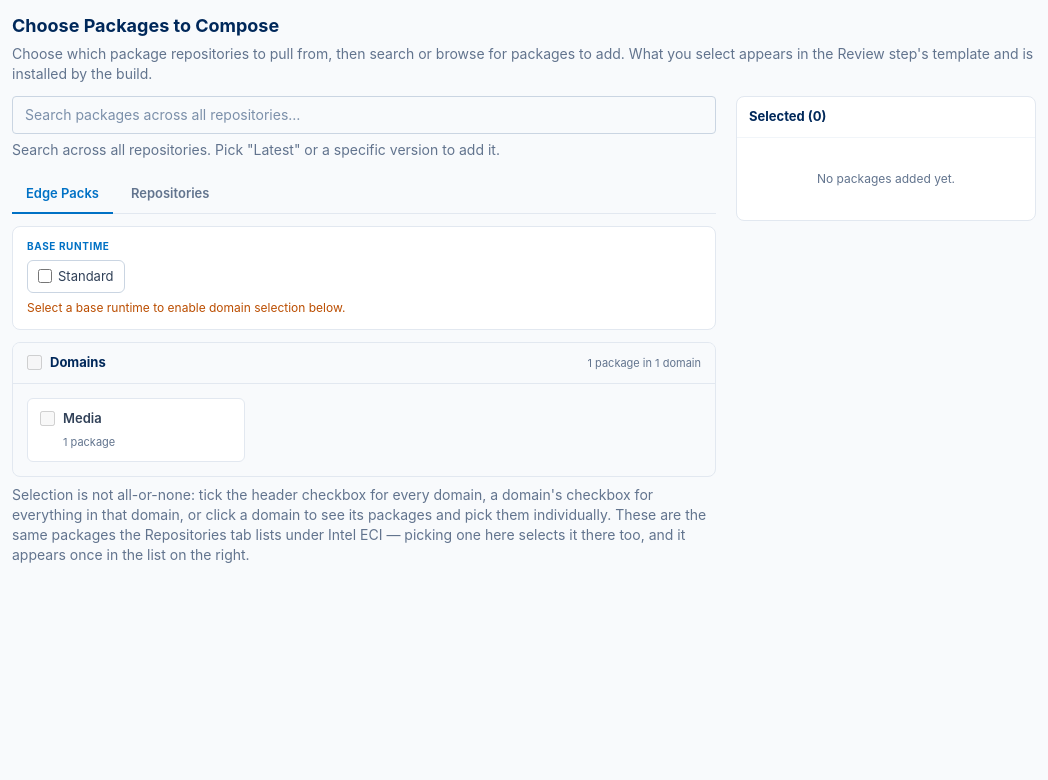
it: PackagesStep Edge Pack › asks again while versions are pending, keeping the pack on screen
Click the button "Media 1 package": (136, 430) x1=27 y1=398 x2=245 y2=462
Wait 30000 ms
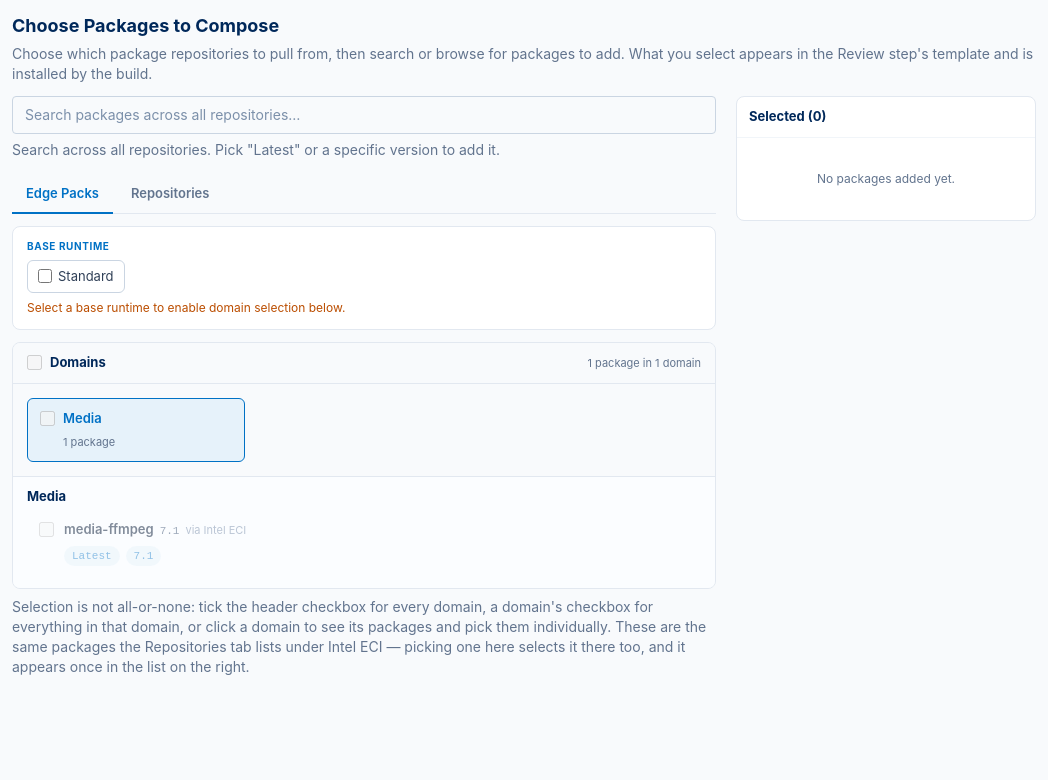
Check: the text "7.1" is shown, box x1=160 y1=523 x2=179 y2=540
